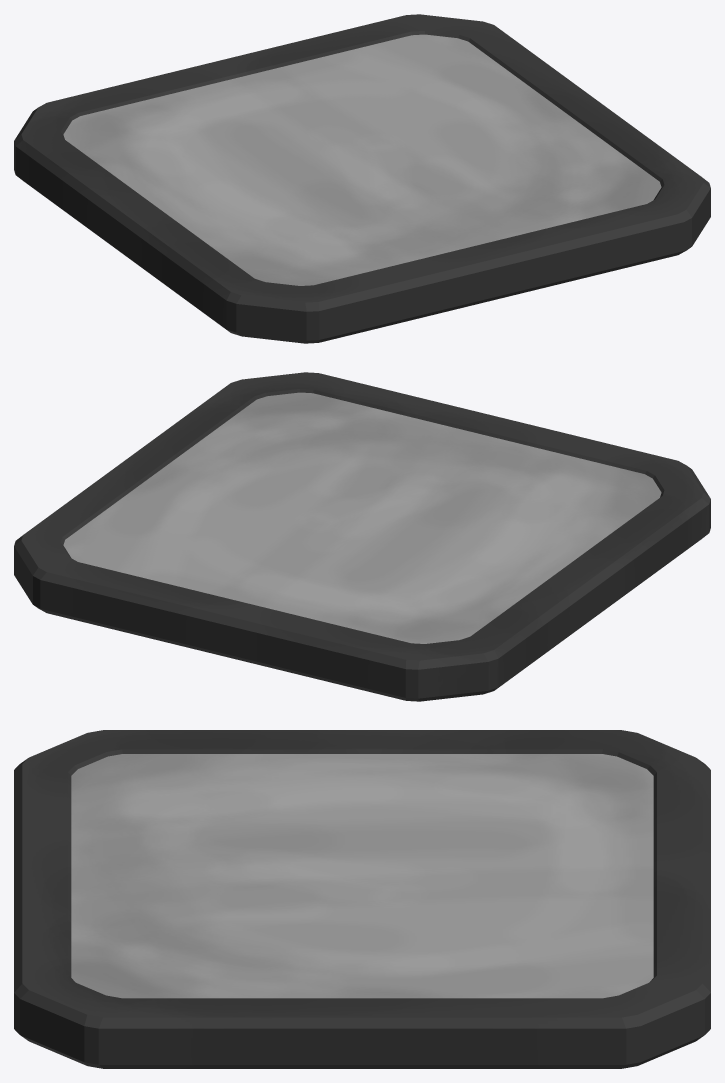
Rendered from Panel.glb.
3 renders of one model, top to bottom at view 1: azimuth 30°, elevation 25°; view 2: azimuth 150°, elevation 25°; view 3: azimuth 270°, elevation 25°, orthographic. The views are drawn at different scales.
Visible parts, largest first — view 1: Cube.003; view 2: Cube.003; view 3: Cube.003.
Part boxes in pixels (x1=…): Cube.003: x1=14, y1=14, x2=710, y2=343; Cube.003: x1=14, y1=372, x2=710, y2=701; Cube.003: x1=14, y1=730, x2=710, y2=1068.
Size of the model in its own units: 2 by 0.1622 by 2.
Materials: 1 (1 with a texture image).
